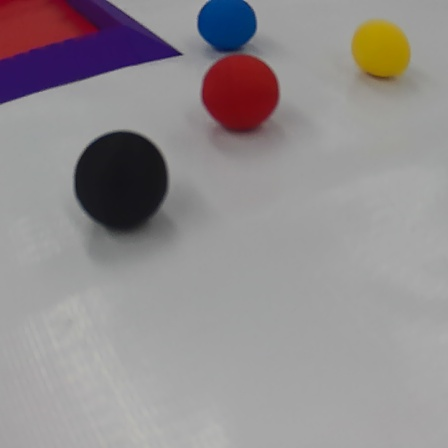black: (72, 124, 176, 236)
blue: (193, 0, 271, 53)
red: (200, 50, 282, 133)
red_aim: (0, 0, 181, 107)
yellow: (345, 18, 412, 80)
